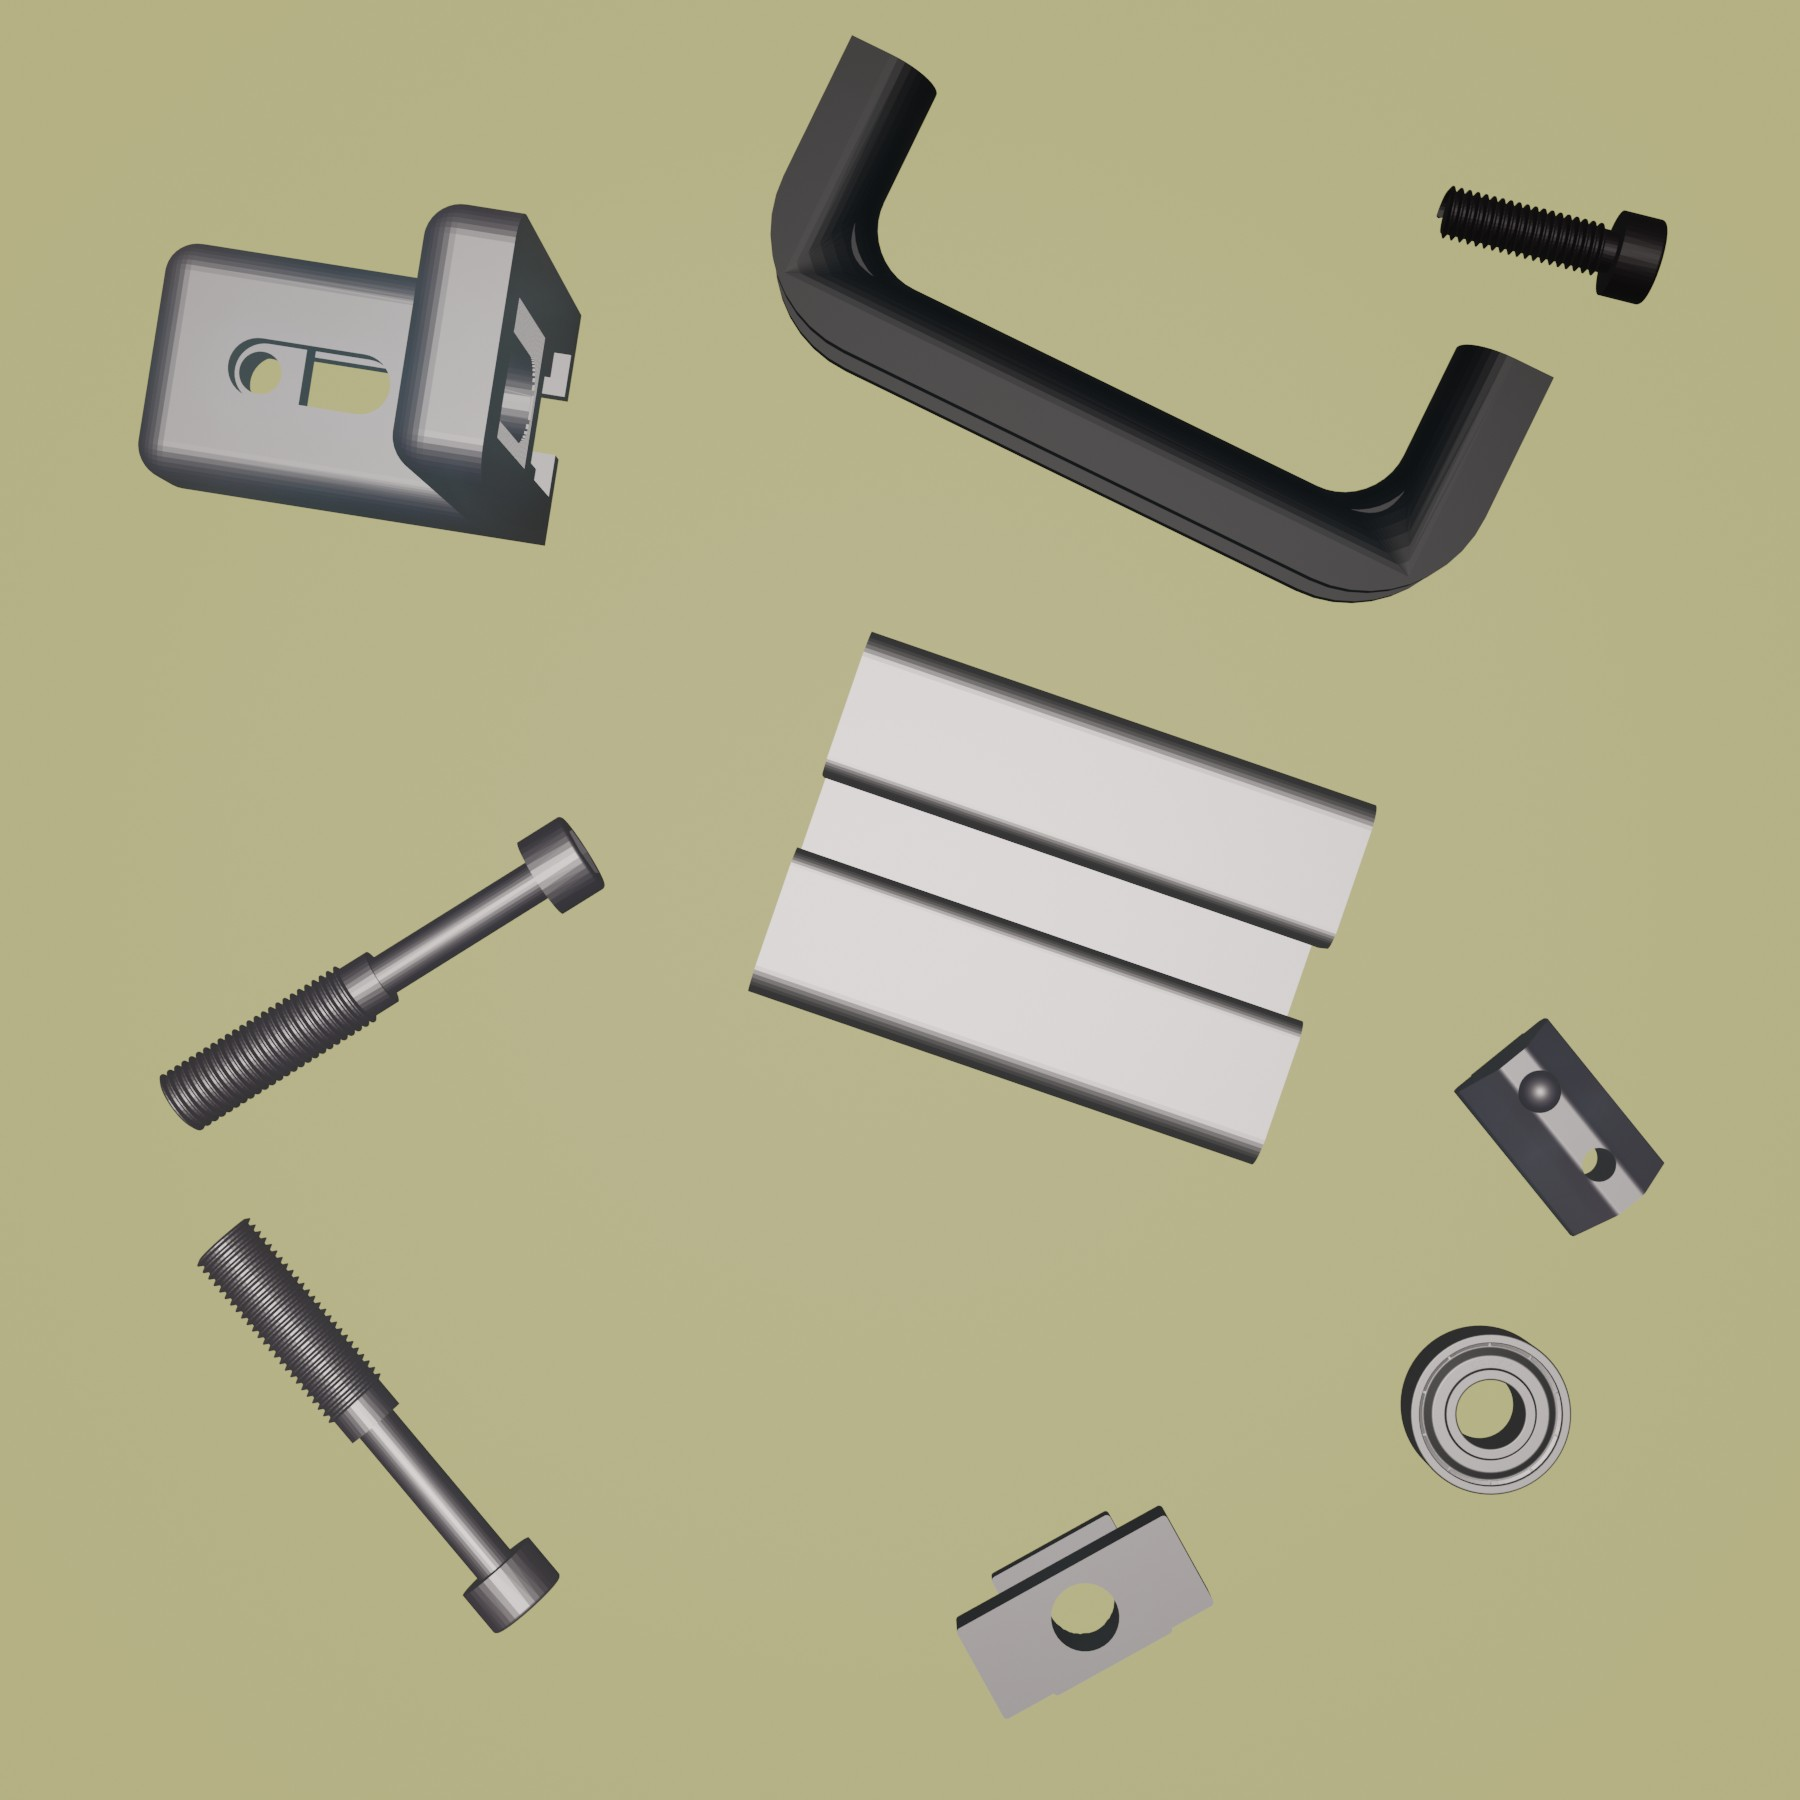Aluminium Extension: (740, 628, 1378, 1170)
Ball Bearing: (1398, 1324, 1576, 1498)
Multiwinkel: (137, 198, 582, 547)
Pull Handle: (766, 31, 1556, 607)
Shoulder Socket Head Cap Screw: (195, 1215, 559, 1635), (158, 814, 607, 1132)
Socket Head Cap Screw: (1436, 181, 1670, 308)
T Nut Square: (954, 1500, 1220, 1723)
T Spring Nut: (1451, 1014, 1666, 1241)
